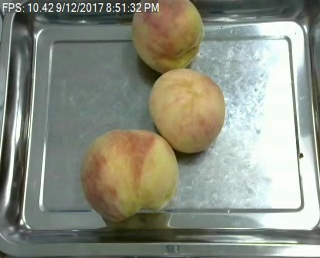Peach: (80, 128, 177, 221), (149, 68, 225, 153), (131, 0, 205, 71)
